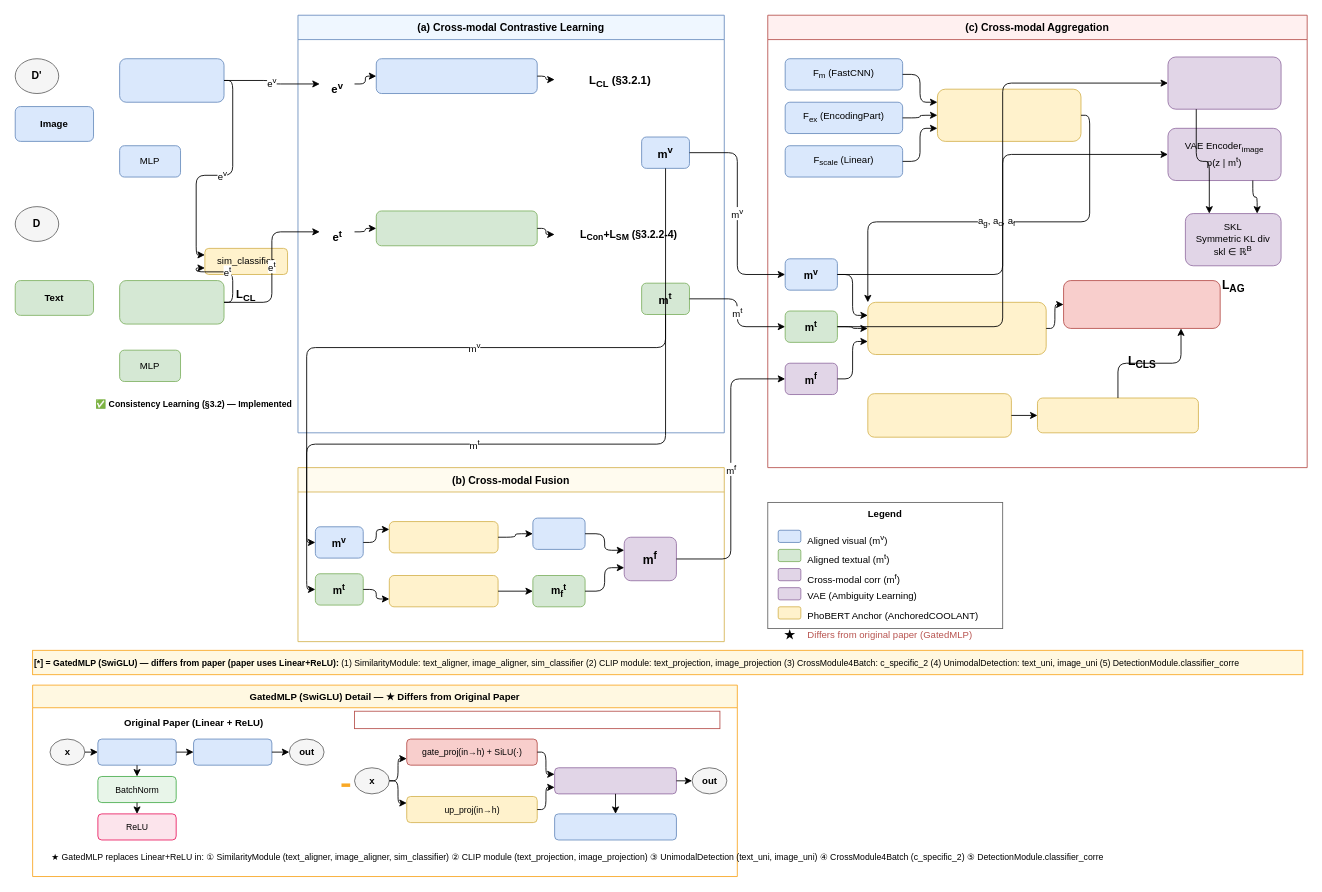
This 1322x892 diagram has some shape labels left out. Here are the shapes that lost their labels. From the top down, the centre of each, then its label:
the point at 171,80: Visual Encoder (ResNet50)
the point at 456,76: SimilarityModule [*]
the point at 1224,82: VAE Encoder text p(z | m v )
the point at 1009,114: Attention Mechanism (SEAttentionModule)
the point at 456,228: CLIP Module [*]
the point at 171,302: Text Encoder (PhoBERT)
the point at 1141,304: Classifier [*] GatedMLP→BN→GatedMLP→[B,2]
the point at 956,328: Weighted Fusion a g ·m v + a c ·m f + a f ·m t [B, 160]
the point at 939,415: PhoBERT CLS [B, 768] (Stage 3.9 Anchor)
the point at 1117,415: anchor_proj Linear(768→64) + BN + ReLU
the point at 443,537: f t→v CrossModule [*]
the point at 558,533: m f v
the point at 443,591: f v→t CrossModule [*]
the point at 537,719: Your Code — GatedMLP / SwiGLU ★ Different
the point at 136,751: Linear(in→h)
the point at 232,751: Linear(h→out)
the point at 615,780: ⊗ element-wise product
the point at 615,826: down_proj(h→out)
